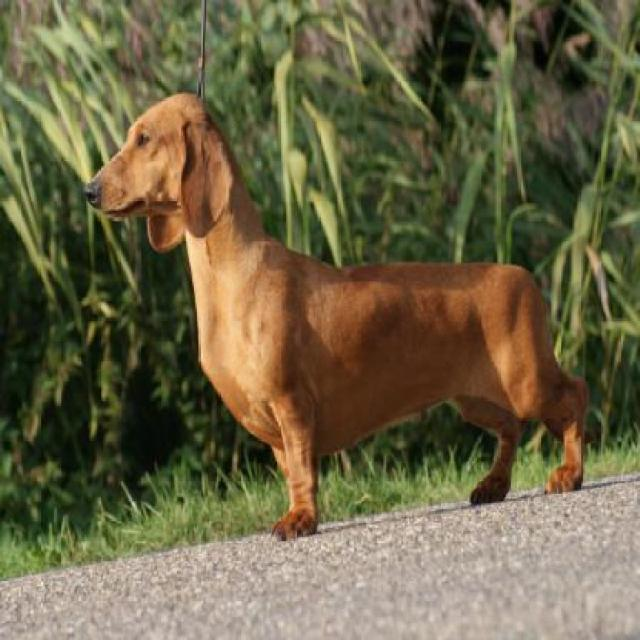Dog: (85, 89, 589, 537)
